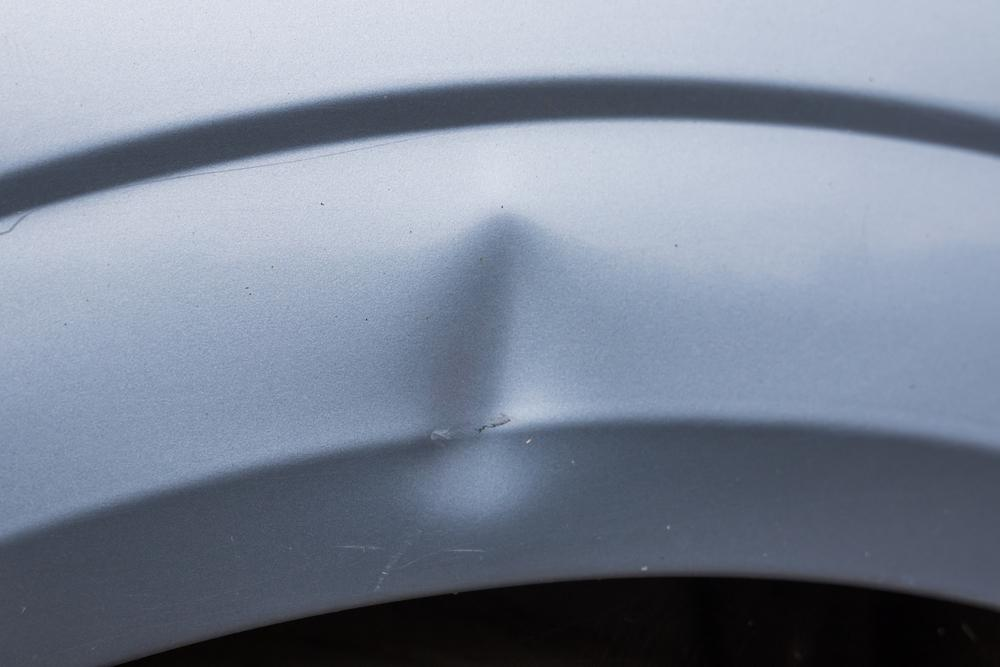dent: (395, 214, 607, 522)
